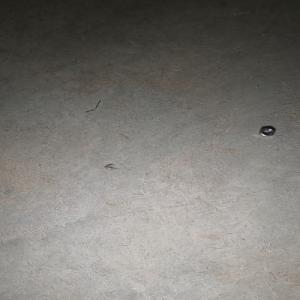Nut: (257, 125, 275, 136)
